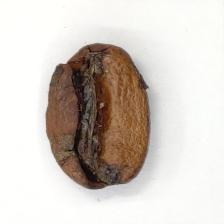NG: (62, 47, 125, 190)
